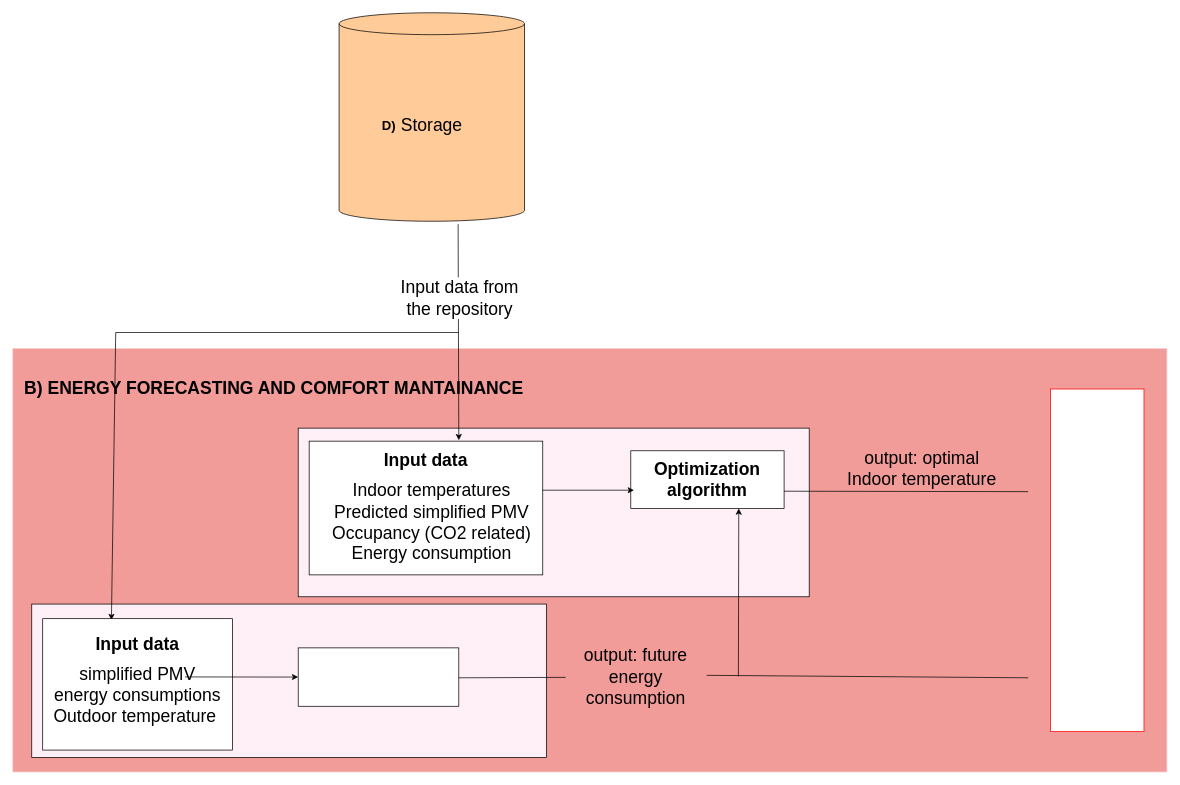
This 1180x785 diagram has some shape labels left out. The box of each missing label's shape, as (x1, y1, x2, y2) in pixels:
AI for energy consumption: (297, 647, 459, 706)
This part will be developed in collaboration T3.1 leaders (CARTIF): (1050, 388, 1144, 732)
